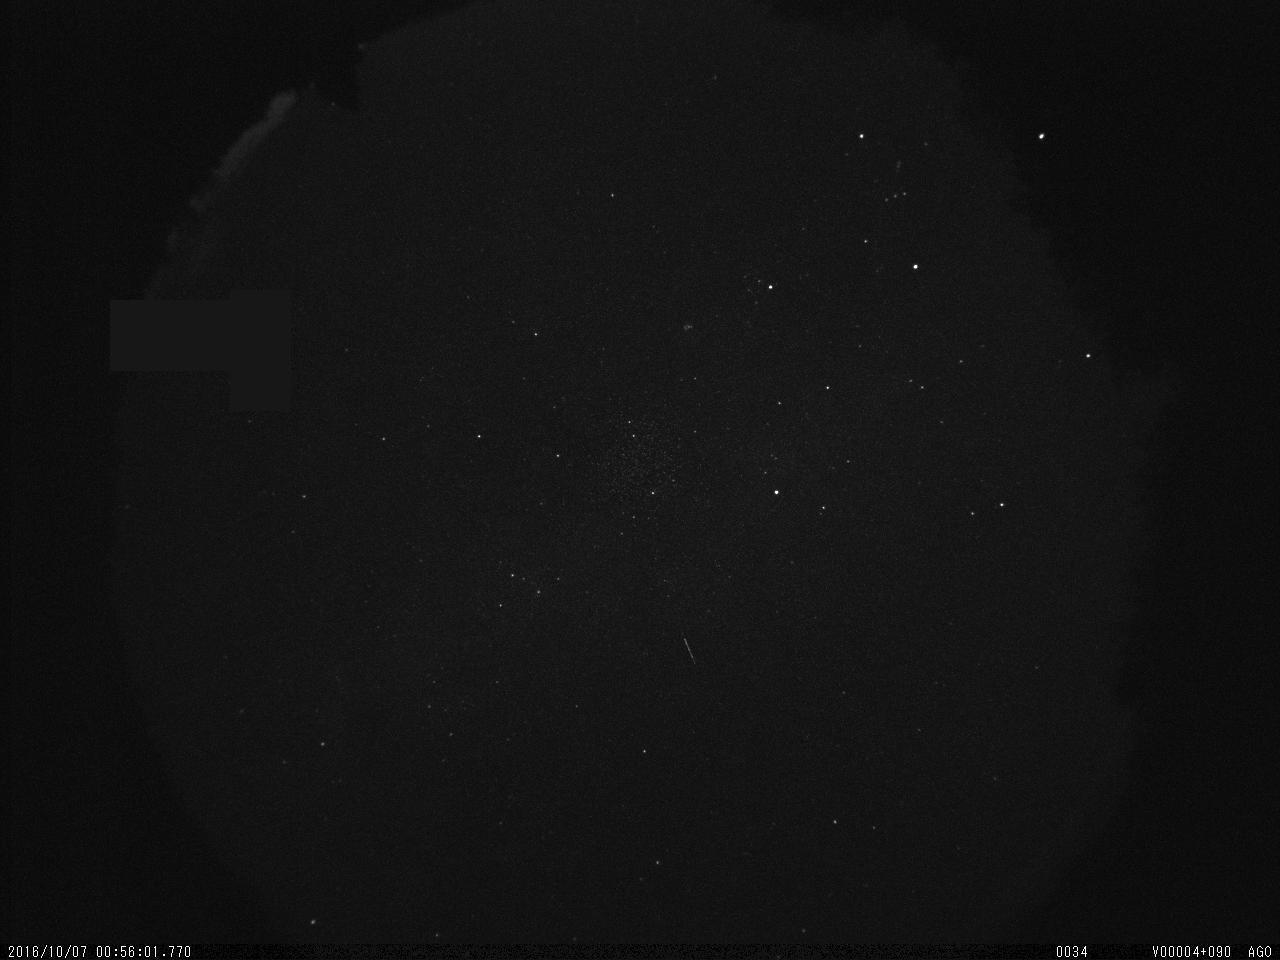meteor: (662, 603, 721, 698), (621, 405, 653, 478)
